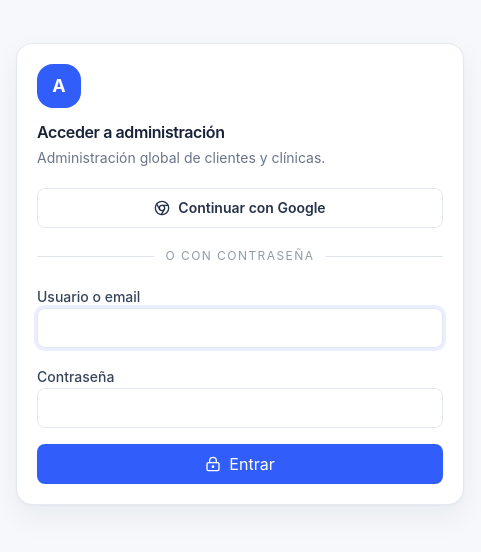
Scenario: LoginPage › shows the backend error when credentials are wrong
Type "admin" into the field labelled "Usuario o email". click: (240, 328)
box: [37, 308, 443, 348]
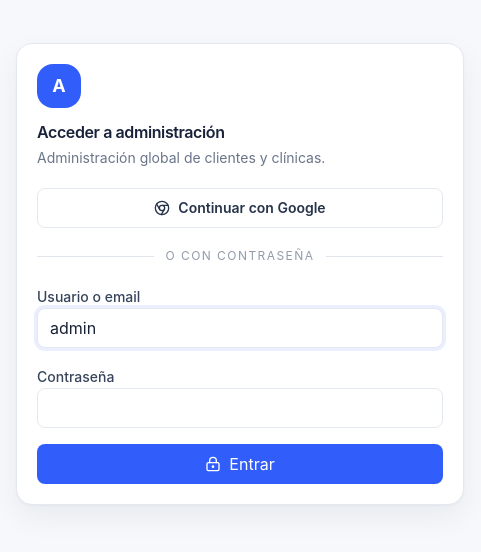
Type "mal" into the password field labelled "Contraseña". click: (240, 408)
box: [37, 388, 443, 428]
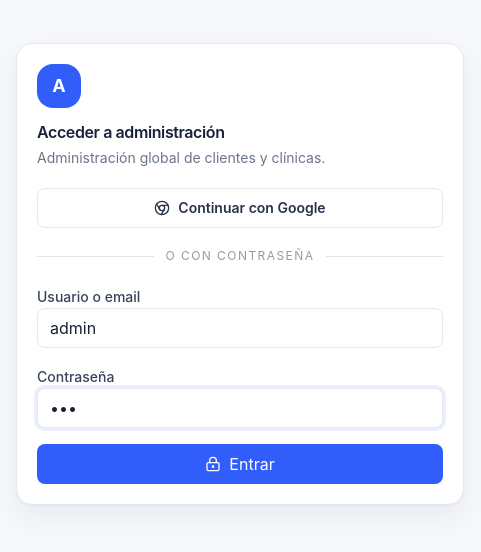
Click the button "Entrar". click: (240, 464)
box: [37, 444, 443, 484]
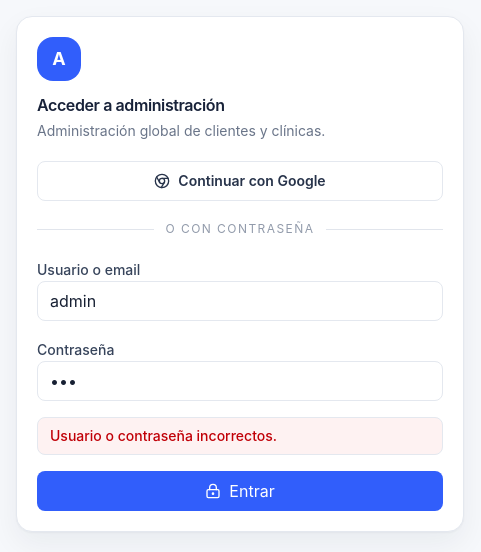
Now the message reads "Usuario o contraseña incorrectos.", box [50, 427, 277, 444]
